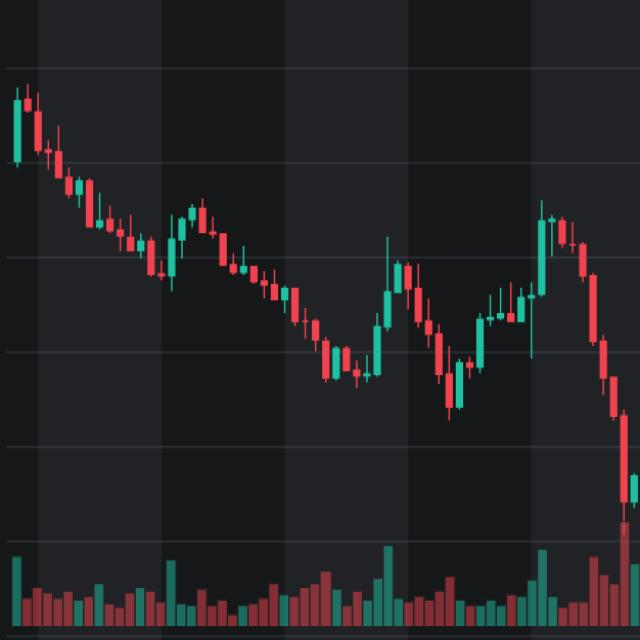Channel-down: (6, 56, 535, 463)
